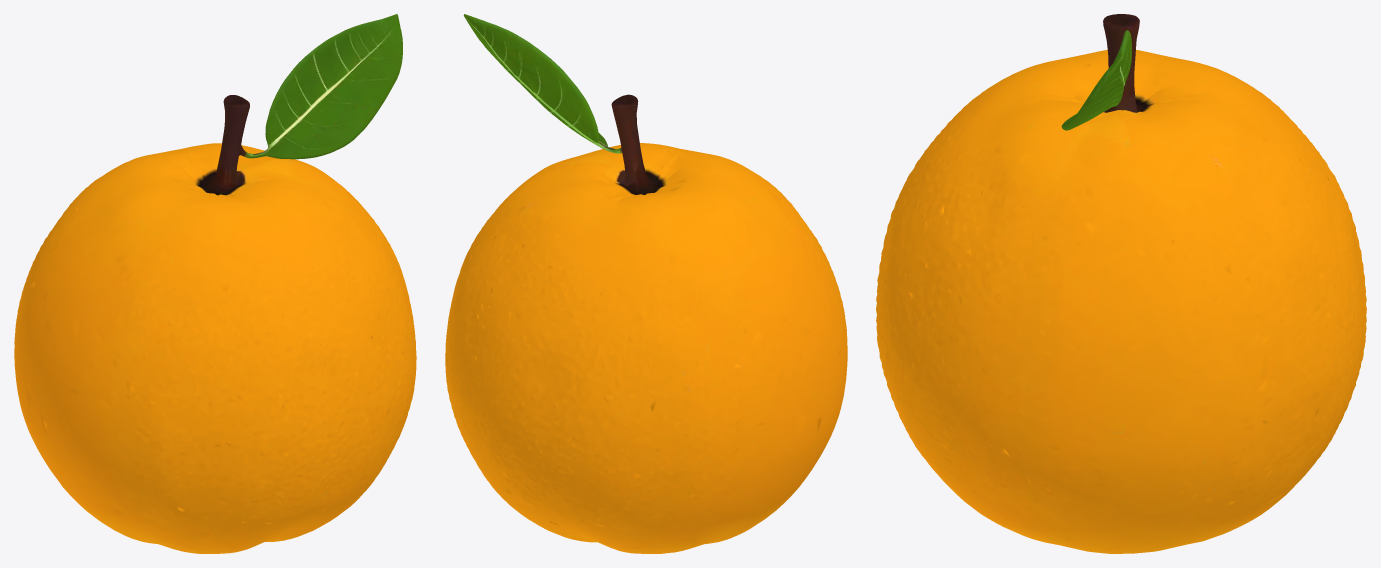
Rendered from orange-textured.glb.
3 views of the same model, side by side, from view 1: azimuth 30°, elevation 25°; view 2: azimuth 150°, elevation 25°; view 3: azimuth 270°, elevation 25° (orthographic). The views are drawn at different scales.
Visible parts, largest first — view 1: Mesh_0; view 2: Mesh_0; view 3: Mesh_0.
Part boxes in pixels (x1,y1,x2,y2): Mesh_0: (14,14,416,553); Mesh_0: (445,14,847,553); Mesh_0: (876,14,1366,553).
Bounding box in the file's own units: 0.0636 × 0.08 × 0.0623.
Materials: 1 (1 with a texture image).
